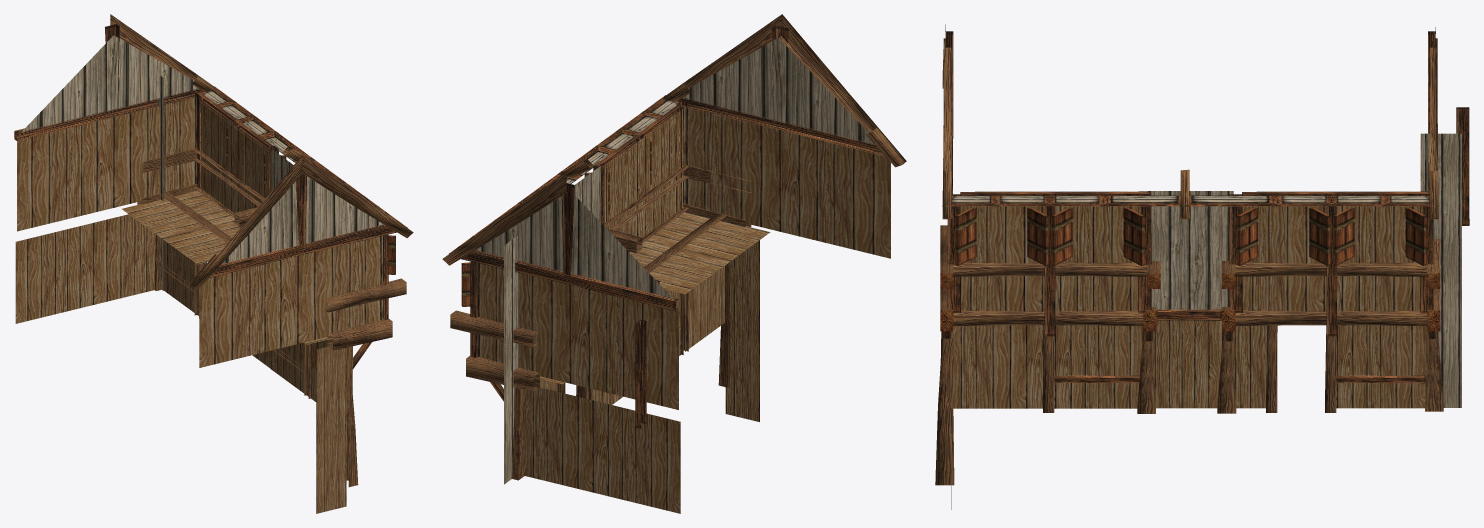
File: LAKETOWN_EXTERIOR_PS_LT_LONGHOUSE9786__GX.obj
The picture shows the model from 3 angles, left to right: view 1: azimuth 30°, elevation 25°; view 2: azimuth 150°, elevation 25°; view 3: azimuth 270°, elevation 25°; orthographic projection. The views are drawn at different scales.
Visible parts, largest first — view 1: ngHouse9786__GX; view 2: ngHouse9786__GX; view 3: ngHouse9786__GX.
Boxes of the visible parts, x1,y1,x2,y2 form: ngHouse9786__GX: (14,14,413,513); ngHouse9786__GX: (442,14,906,513); ngHouse9786__GX: (935,24,1469,509).
Size of the model in its own units: 751 by 1185 by 1220.
